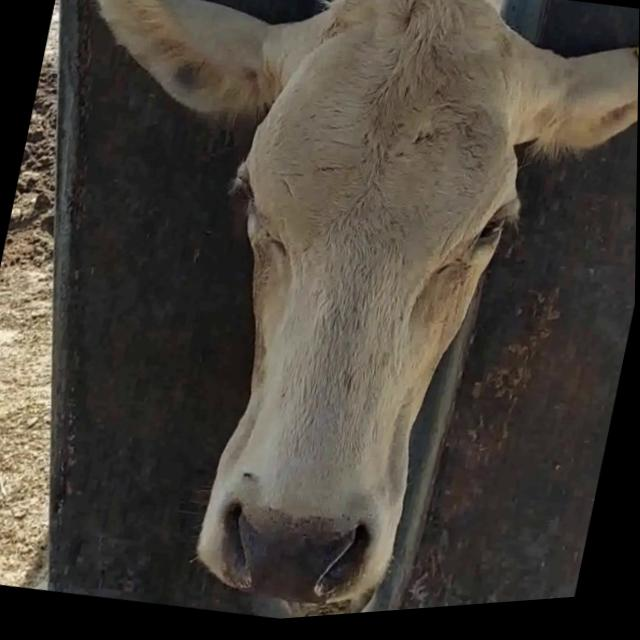cowFace: (150, 0, 561, 631)
